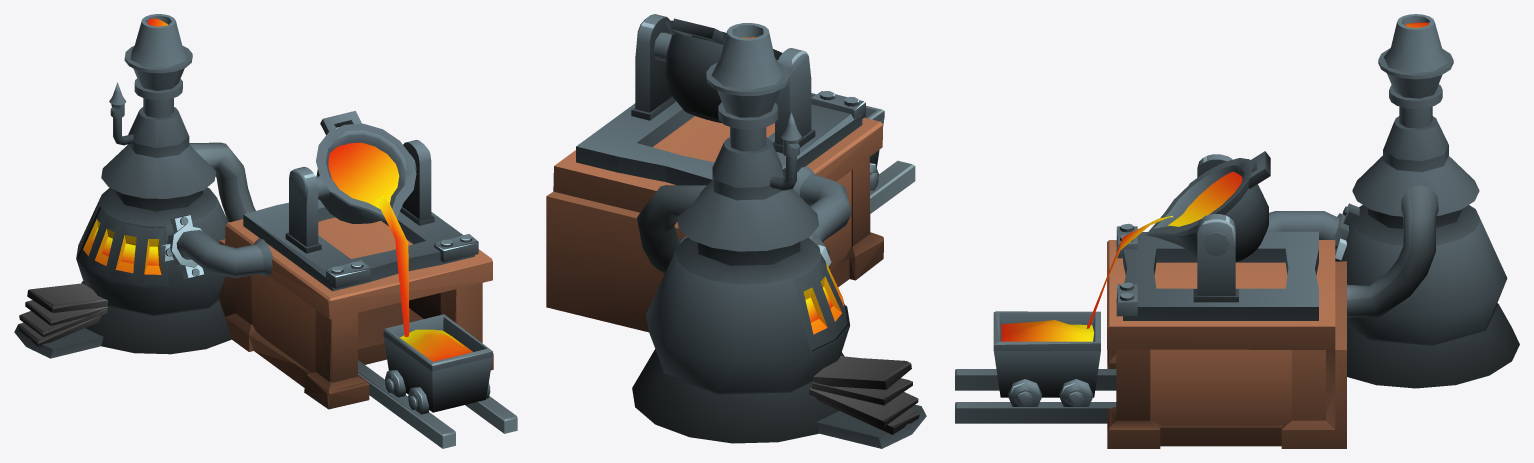
Rendered from smelter_lv3.glb.
3 renders of one model, left to right at view 1: azimuth 30°, elevation 25°; view 2: azimuth 150°, elevation 25°; view 3: azimuth 270°, elevation 25°, orthographic. The views are drawn at different scales.
Parts seen in each view (by area): view 1: smelter_base, smelter_lv3, smelter_base.001, smelter_Cube.002, smelter_wagon, smelter_marmite, smelter_Cube.003, smelter_lava, smelter_pipe, smelter_pipe.001, smelter_Cube.016, smelter_Cube.013 (+10 smaller); view 2: smelter_base, smelter_lv3, smelter_base.001, smelter_Cube.002, smelter_marmite, smelter_pipe.001, smelter_Cube.010, smelter_Cube.016, smelter_pipe, smelter_Cube.013, smelter_pipe.003, smelter_Cube.003 (+4 smaller); view 3: smelter_base, smelter_lv3, smelter_Cube.001, smelter_Cube.002, smelter_base.001, smelter_wagon, smelter_pipe.001, smelter_marmite, smelter_rail, smelter_Cube.010, smelter_lava.002, smelter_pipe (+7 smaller).
Part boxes in pixels (left/top/right/bottom): smelter_base: left=76, top=14, right=228, bottom=314; smelter_lv3: left=219, top=217, right=493, bottom=409; smelter_base.001: left=14, top=281, right=231, bottom=358; smelter_Cube.002: left=243, top=199, right=474, bottom=291; smelter_wagon: left=383, top=314, right=492, bottom=412; smelter_marmite: left=316, top=123, right=416, bottom=223; smelter_Cube.003: left=252, top=274, right=315, bottom=372; smelter_lava: left=328, top=142, right=399, bottom=208; smelter_pipe: left=176, top=230, right=272, bottom=278; smelter_pipe.001: left=189, top=142, right=255, bottom=222; smelter_Cube.016: left=285, top=166, right=321, bottom=253; smelter_Cube.013: left=358, top=360, right=455, bottom=448; smelter_base: left=646, top=23, right=850, bottom=392; smelter_lv3: left=546, top=116, right=883, bottom=332; smelter_base.001: left=632, top=349, right=926, bottom=448; smelter_Cube.002: left=576, top=97, right=862, bottom=185; smelter_marmite: left=664, top=20, right=782, bottom=122; smelter_pipe.001: left=637, top=185, right=706, bottom=273; smelter_Cube.010: left=631, top=14, right=675, bottom=120; smelter_Cube.016: left=772, top=48, right=815, bottom=153; smelter_pipe: left=793, top=166, right=851, bottom=242; smelter_Cube.013: left=870, top=160, right=915, bottom=213; smelter_pipe.003: left=770, top=112, right=801, bottom=190; smelter_Cube.003: left=823, top=170, right=851, bottom=268; smelter_base: left=1335, top=14, right=1507, bottom=344; smelter_lv3: left=1107, top=240, right=1346, bottom=448; smelter_Cube.001: left=1150, top=349, right=1291, bottom=425; smelter_Cube.002: left=1123, top=231, right=1318, bottom=320; smelter_base.001: left=1347, top=303, right=1519, bottom=388; smelter_wagon: left=993, top=311, right=1100, bottom=397; smelter_pipe.001: left=1347, top=185, right=1438, bottom=317; smelter_marmite: left=1146, top=158, right=1268, bottom=261; smelter_rail: left=955, top=402, right=1116, bottom=423; smelter_Cube.010: left=1193, top=214, right=1238, bottom=302; smelter_lava.002: left=1001, top=320, right=1094, bottom=341; smelter_pipe: left=1267, top=211, right=1339, bottom=239.
Size of the model in its own units: 2.82 by 2.42 by 3.84.
2 materials, 2 textured.
